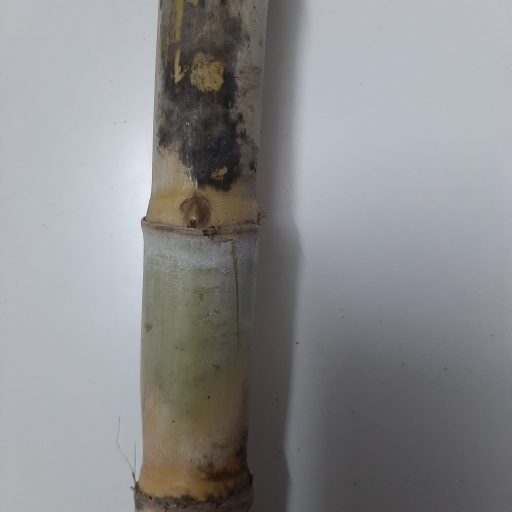Bud: (181, 200, 208, 228)
